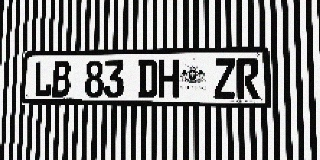3: (104, 60, 124, 98)
8: (85, 60, 104, 97)
B: (52, 61, 71, 97)
D: (137, 60, 158, 98)
H: (158, 59, 179, 98)
L: (34, 61, 52, 97)
R: (236, 58, 260, 99)
Z: (214, 58, 236, 99)
